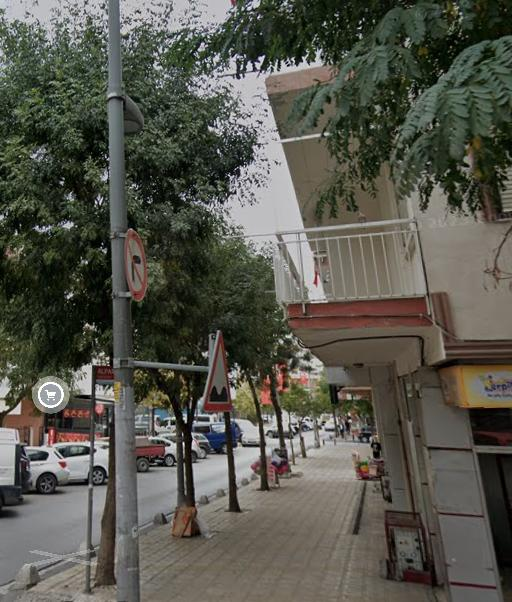rightturnsareforbidden: (123, 230, 146, 298)
